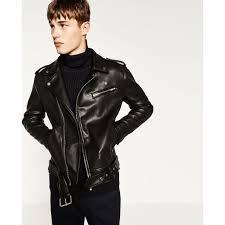jacket: (21, 49, 153, 202)
